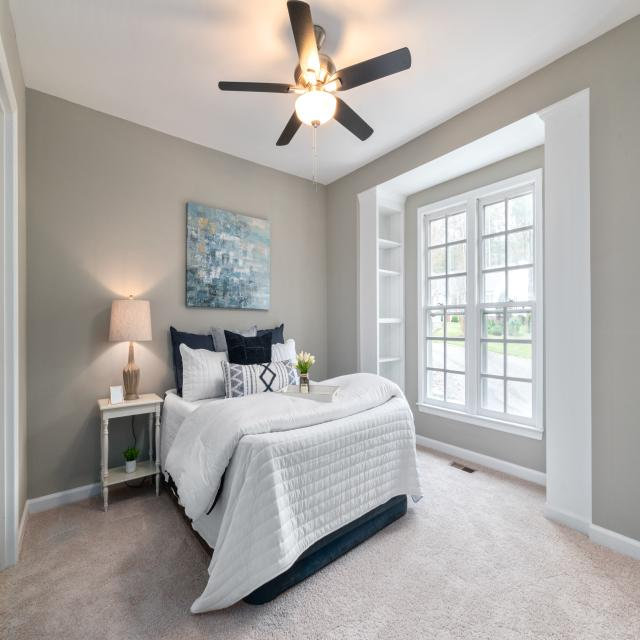floor: (0, 444, 640, 640)
wall: (326, 16, 640, 561), (25, 87, 328, 515), (404, 145, 546, 486), (416, 167, 545, 441), (186, 201, 271, 309)
